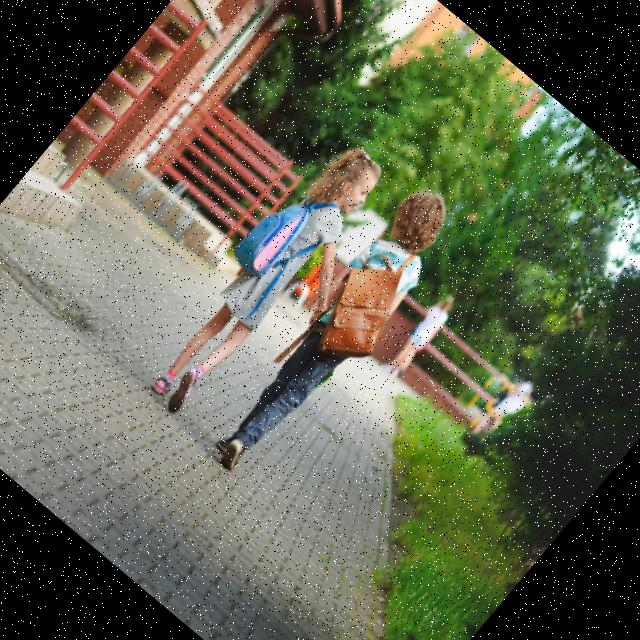Person: (126, 125, 420, 448), (196, 178, 477, 494)
